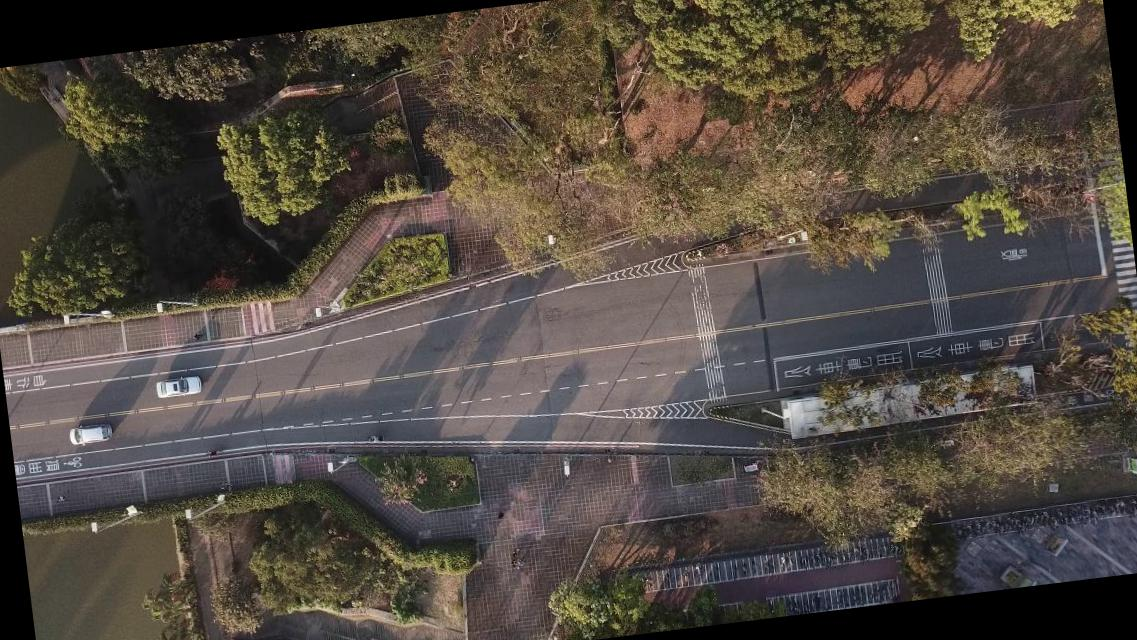vehicle: (154, 372, 201, 398), (68, 421, 112, 446)
